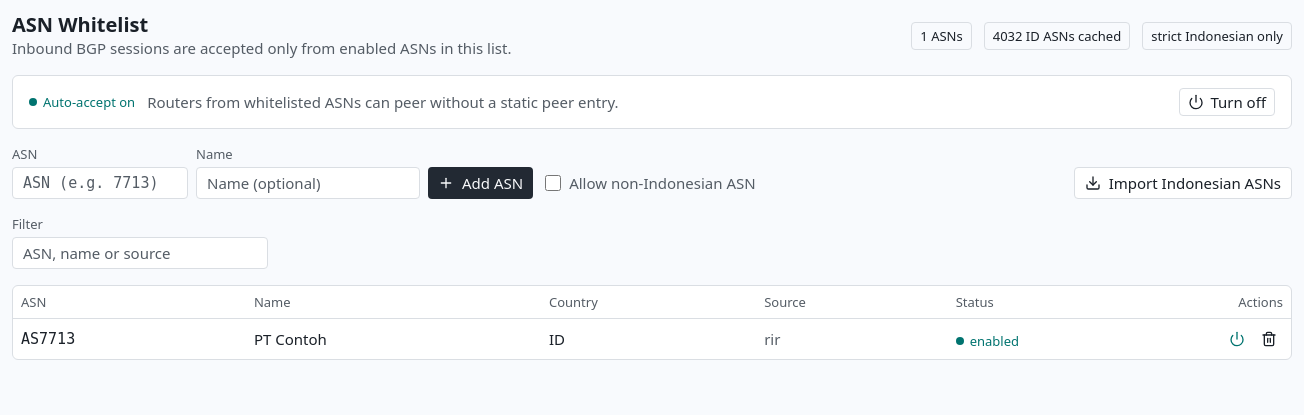
Whitelist Page › reports partial RIR import warnings
Expected: the text "AS7713" is shown, [13,318,246,358]
What coordinates should you click on to do the following:
click the button "Import Indonesian ASNs"
I would click on:
 (1183, 183)
Its box is [1074,167,1292,199].
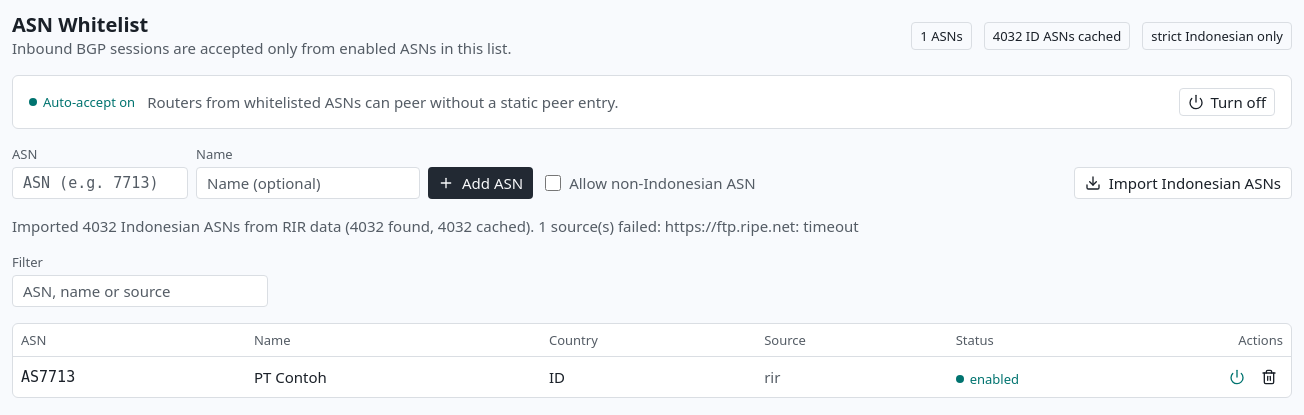
Result: the text "1 source(s) failed" is shown at [12,216,859,236]
